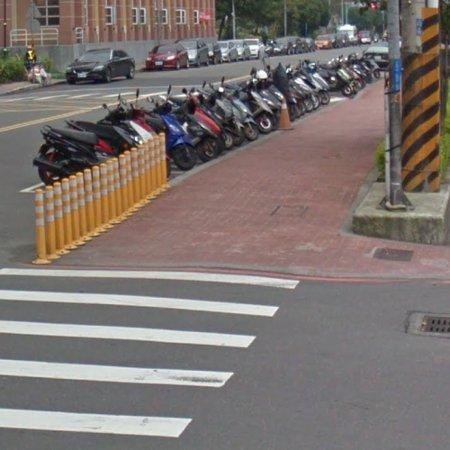crosswalks: (0, 265, 305, 439)
